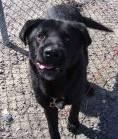dog: (19, 3, 112, 138)
